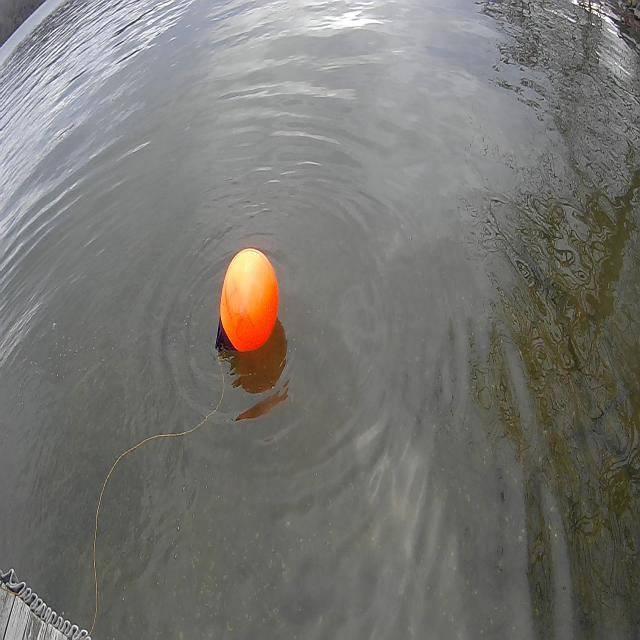Buoy: (216, 244, 282, 359)
